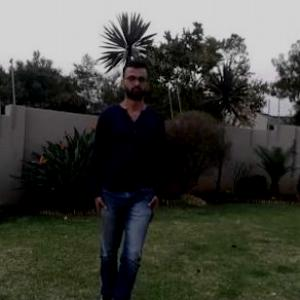follow: (94, 44, 163, 299)
